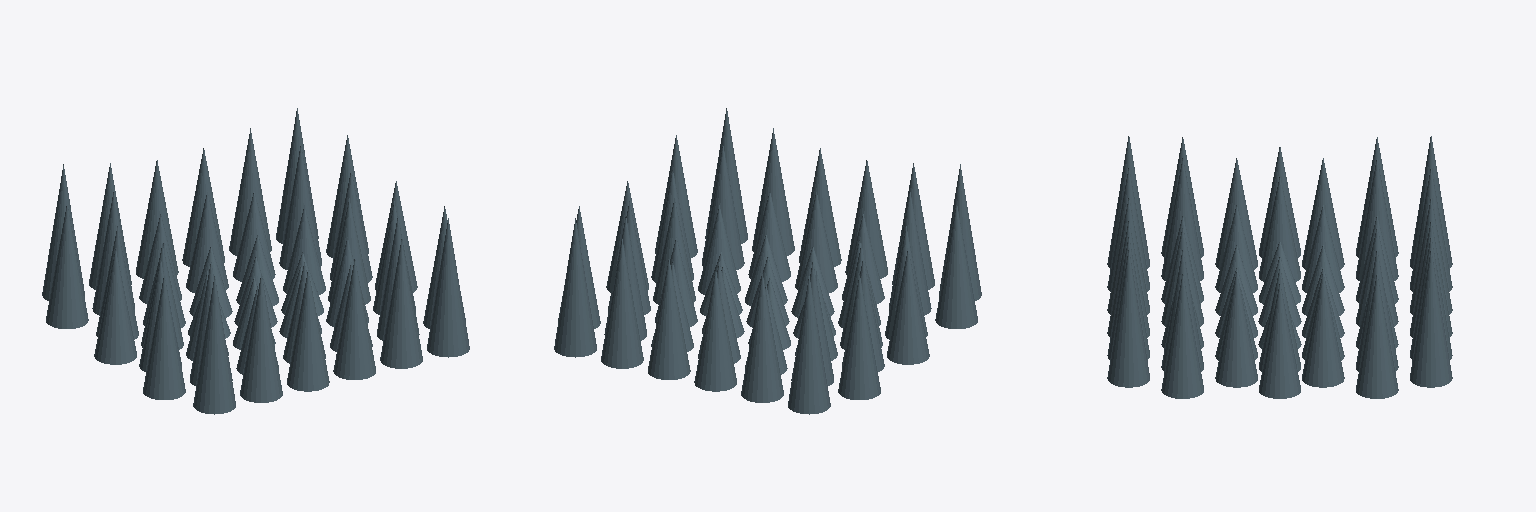
File: spikes.obj
The picture shows the model from 3 angles: view 1: azimuth 30°, elevation 25°; view 2: azimuth 150°, elevation 25°; view 3: azimuth 270°, elevation 25°; orthographic projection.
Parts seen in each view (by area): view 1: tileSpikes_large_Cube.4227; view 2: tileSpikes_large_Cube.4227; view 3: tileSpikes_large_Cube.4227.
Part boxes in pixels (left/top/right/bottom): tileSpikes_large_Cube.4227: left=42, top=108, right=469, bottom=414; tileSpikes_large_Cube.4227: left=554, top=108, right=981, bottom=414; tileSpikes_large_Cube.4227: left=1107, top=136, right=1452, bottom=398.
Bounding box in the file's own units: 3.4 × 1.34 × 3.2.